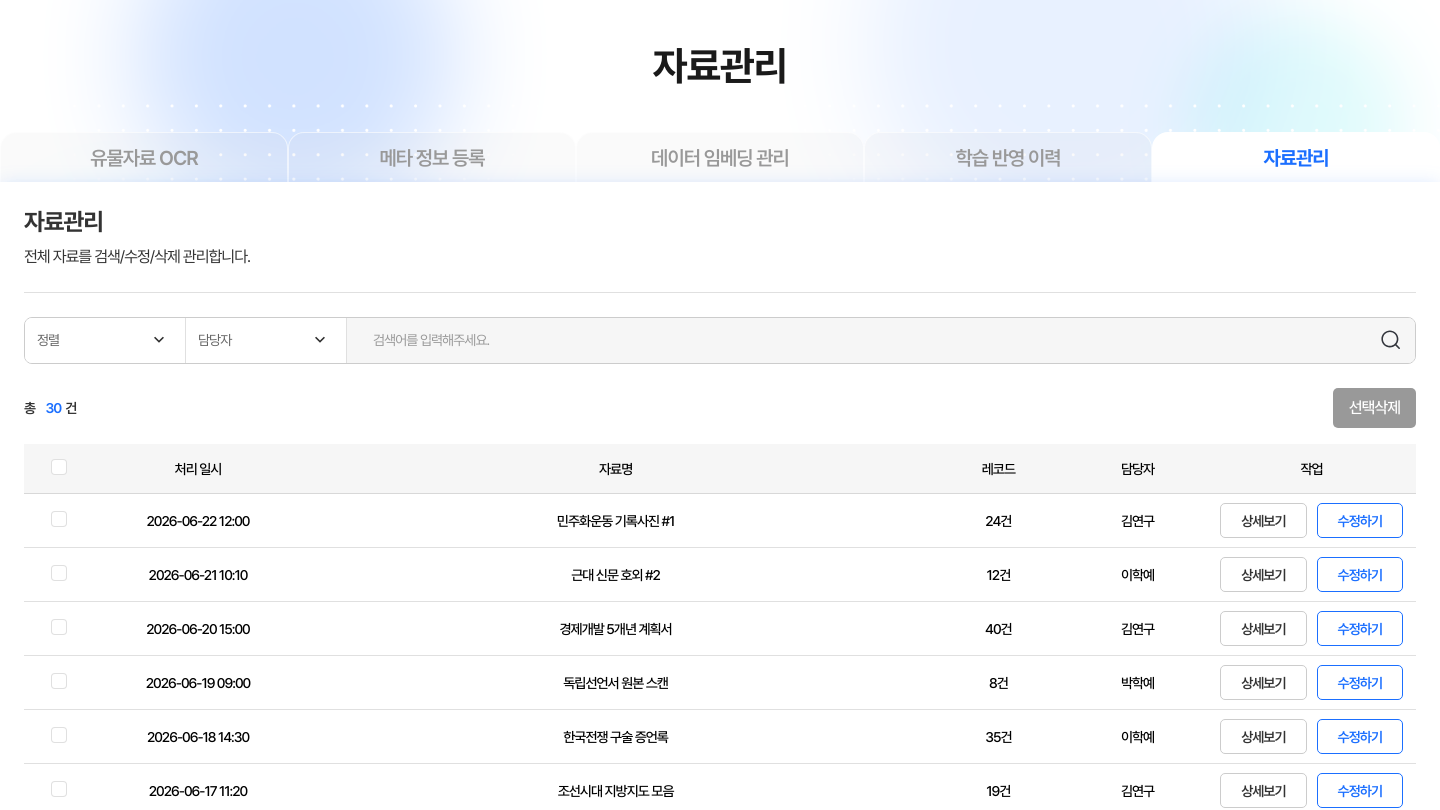
Test case: Materials: 검색 결과 0건이면 EmptyState를 유지한다
The width and height of the screenshot is (1440, 810).
Type "존재하지않는자료명" into the search field with placeholder "검색어를 입력해주세요." at [871, 340], box [363,318,1379,363]
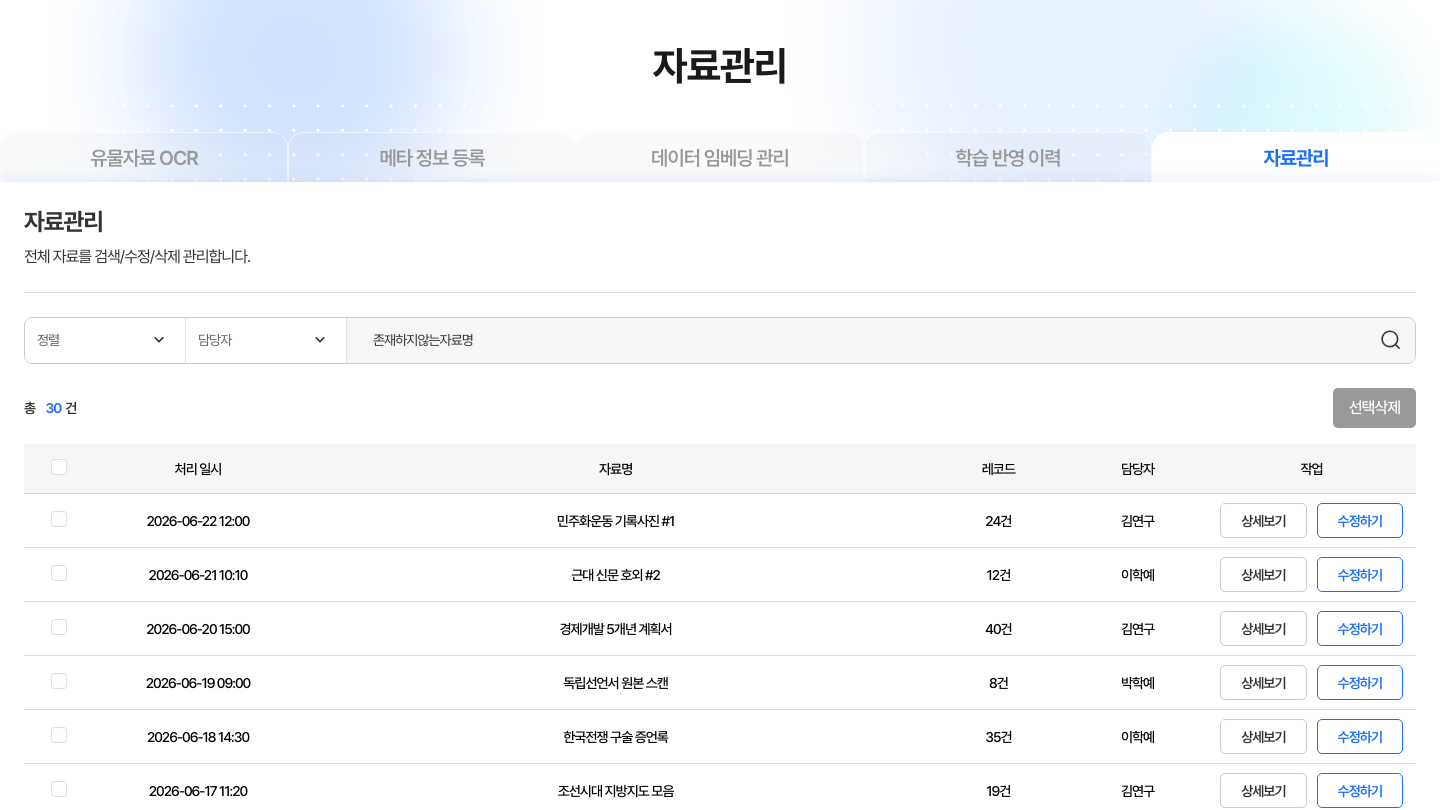
Click the button named "검색" at [1391, 340], box [1379,328,1403,352]
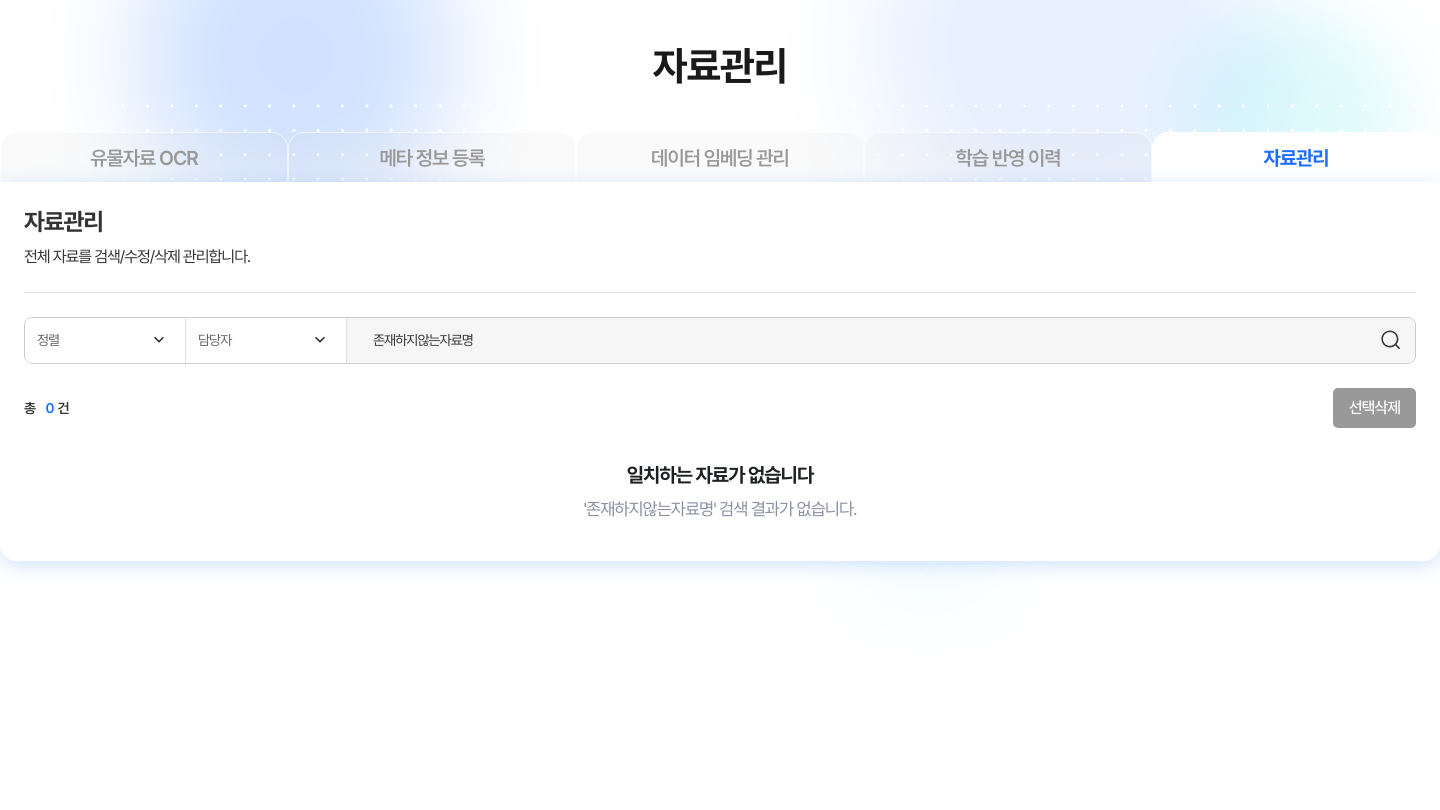
Now the text "일치하는 자료가 없습니다" is shown, box [627,460,813,490]
